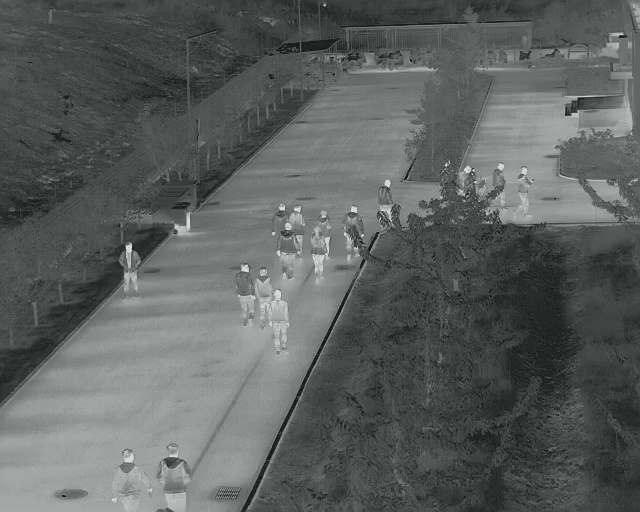person: (109, 447, 152, 512), (156, 442, 191, 511), (118, 241, 142, 301), (268, 288, 290, 353), (234, 262, 255, 327), (340, 204, 362, 260), (278, 222, 299, 280), (515, 166, 534, 219), (310, 227, 326, 284), (255, 267, 269, 328), (491, 161, 508, 207), (375, 177, 393, 214), (268, 202, 287, 235), (288, 204, 305, 236), (316, 210, 332, 241)
